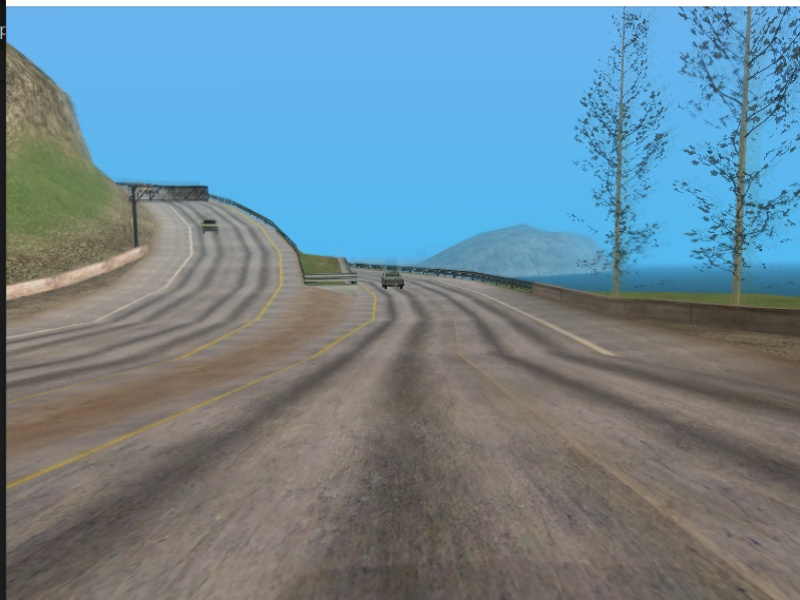vehicle: (381, 269, 405, 291), (200, 216, 217, 234)
